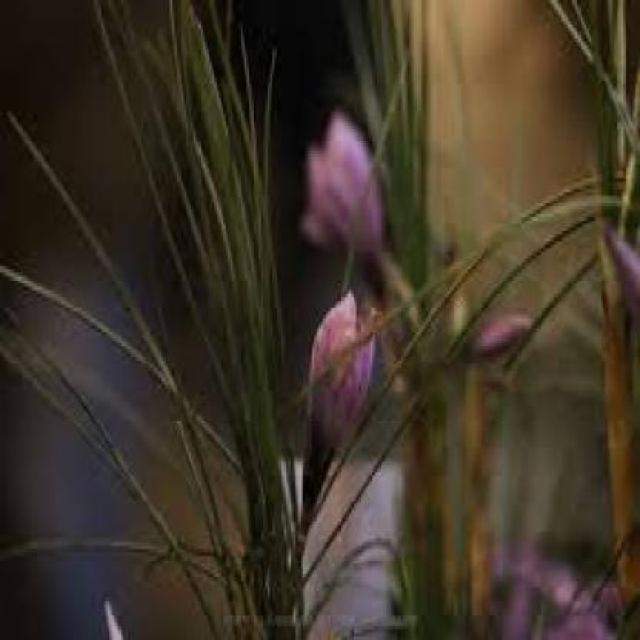saffron open: (299, 303, 377, 574), (301, 111, 382, 254)
